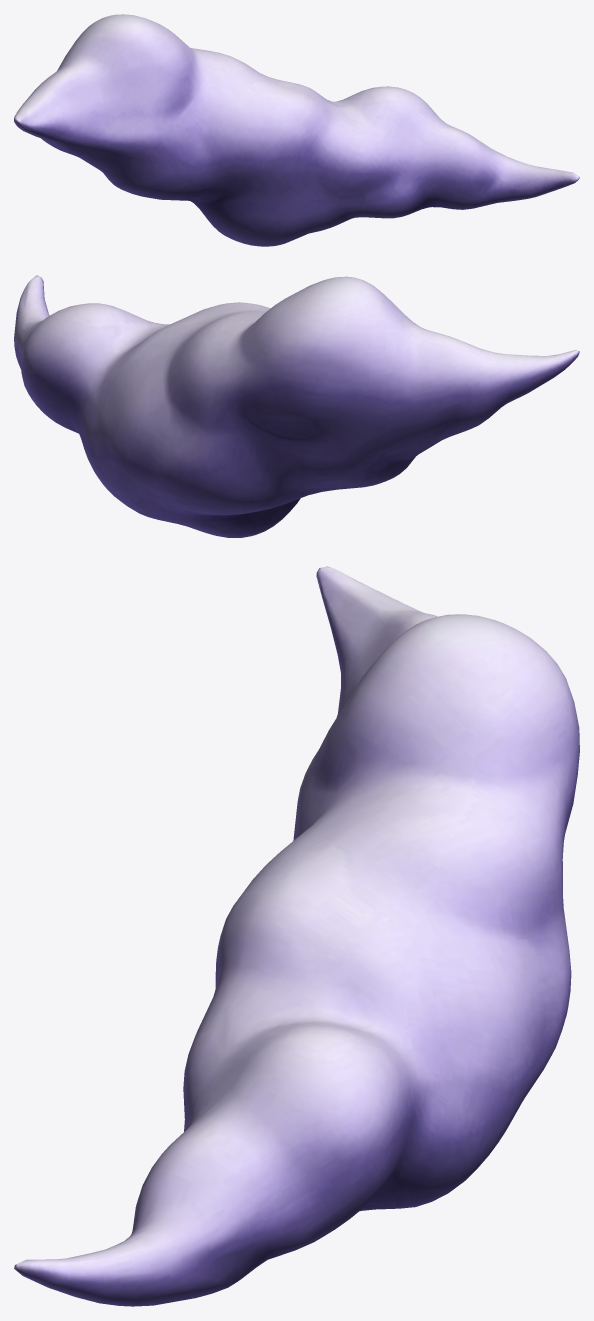
File: sky_cloud_02a_nexus_v35.glb
3 views of the same model, one above another, from view 1: azimuth 30°, elevation 25°; view 2: azimuth 150°, elevation 25°; view 3: azimuth 270°, elevation 25° (orthographic). The views are drawn at different scales.
Visible parts, largest first — view 1: cloud_02a; view 2: cloud_02a; view 3: cloud_02a.
Part boxes in pixels (bbox=[...]): cloud_02a: bbox=[14, 14, 579, 246]; cloud_02a: bbox=[14, 275, 579, 537]; cloud_02a: bbox=[14, 566, 579, 1306].
Size of the model in its own units: 59.98 by 27.15 by 30.69.
Materials: 1 (1 with a texture image).
